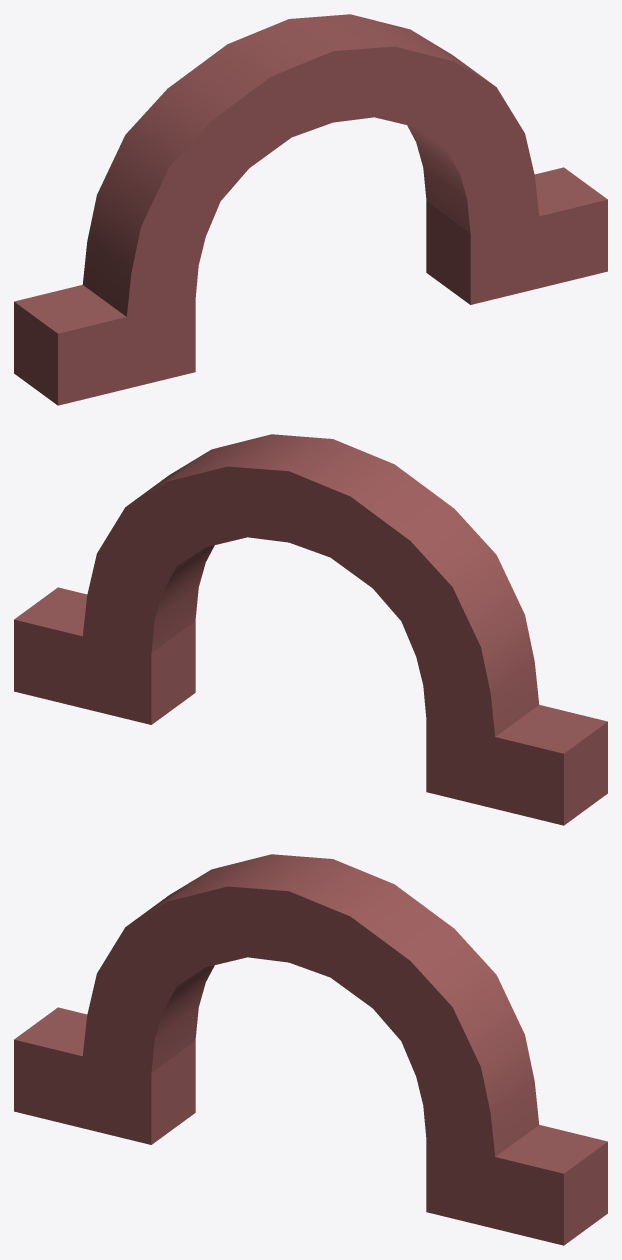
File: capitello_arco.fbx
3 views of the same model, one above another, from view 1: azimuth 30°, elevation 25°; view 2: azimuth 150°, elevation 25°; view 3: azimuth 330°, elevation 25° (orthographic).
Parts seen in each view (by area): view 1: arco; view 2: arco; view 3: arco.
Boxes of the visible parts, box(x1,y1,x2,y2) form: arco: box(14, 14, 607, 405); arco: box(14, 434, 607, 825); arco: box(14, 854, 607, 1245).
Bounding box in the file's own units: 4 × 2 × 0.5549.
